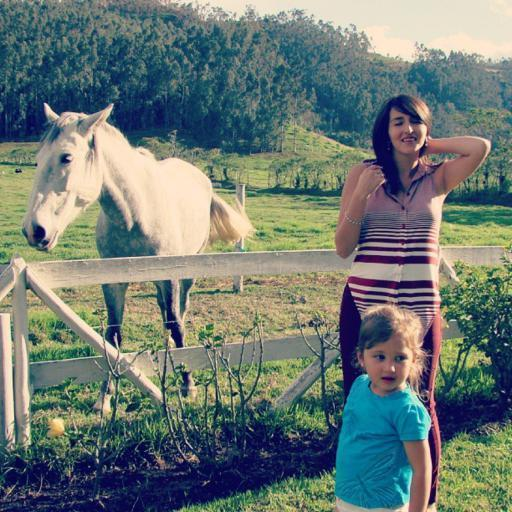horse: (21, 104, 252, 420)
